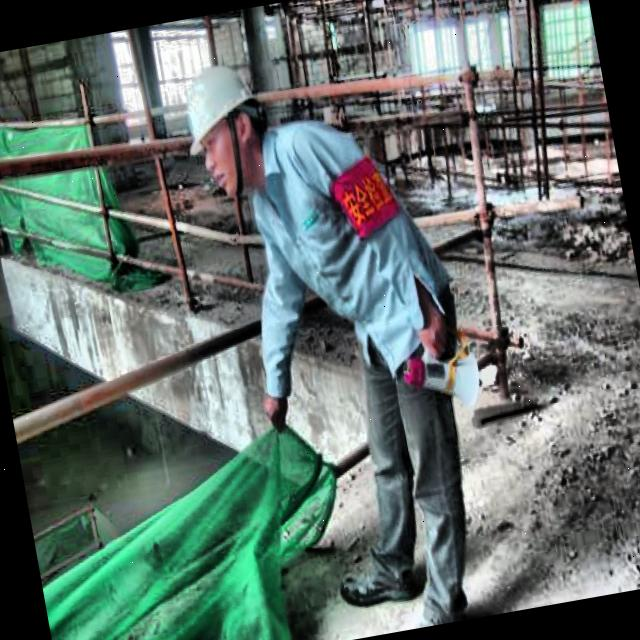helmet: (166, 43, 279, 205)
